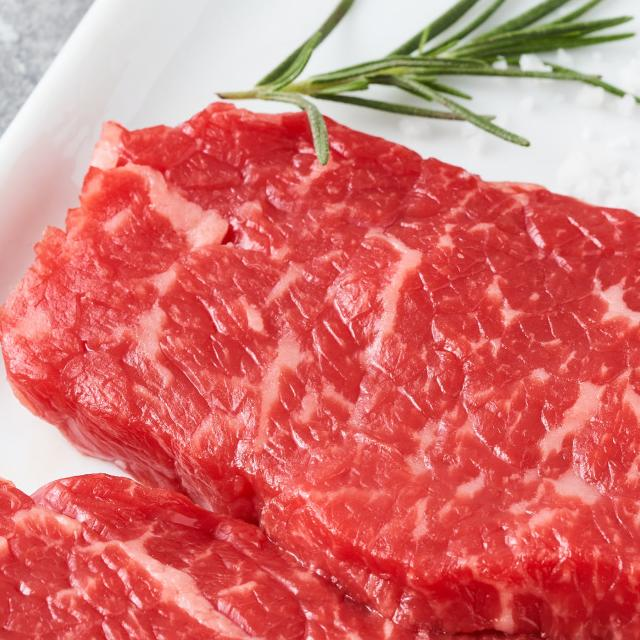beef: (136, 249, 640, 640)
